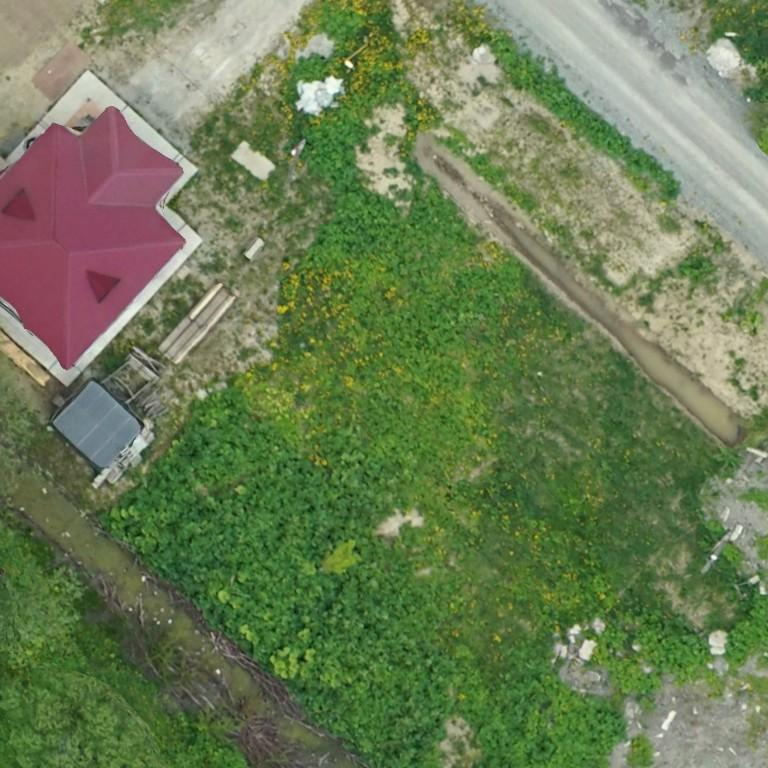hogweed: (136, 391, 460, 767), (305, 109, 462, 261), (495, 41, 654, 171), (463, 655, 623, 767)
